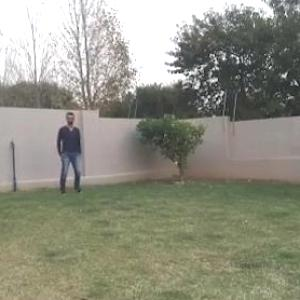follow: (60, 109, 82, 196)
